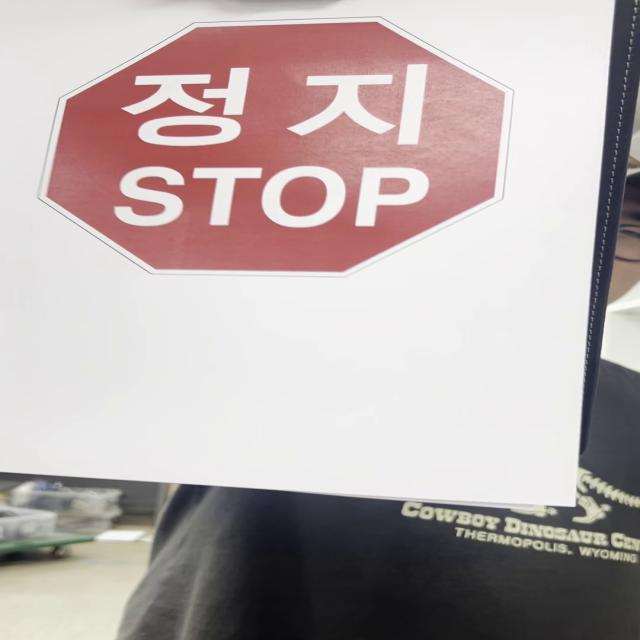stop: (40, 14, 508, 282)
